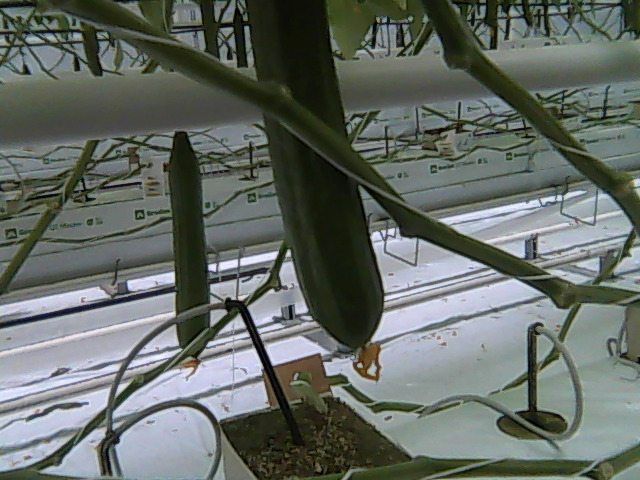concombre: (243, 1, 387, 385)
